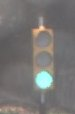Green: (28, 15, 60, 92)
